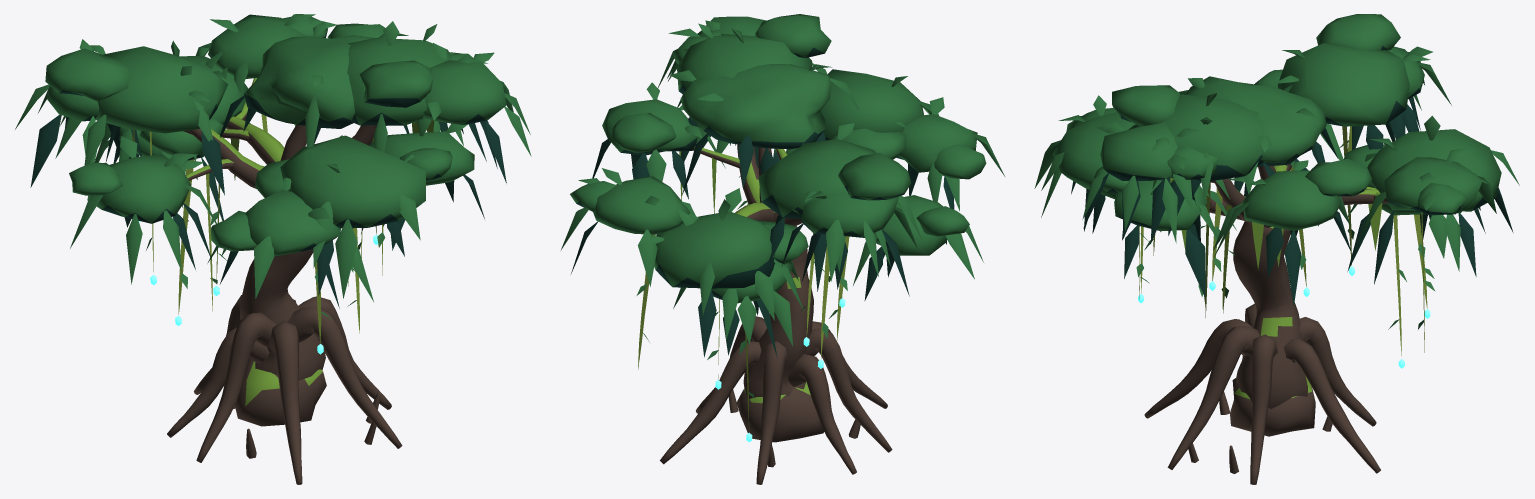
Rendered from tree_swamp_a.glb.
The picture shows the model from 3 angles, left to right: view 1: azimuth 30°, elevation 25°; view 2: azimuth 150°, elevation 25°; view 3: azimuth 270°, elevation 25°; orthographic projection. The views are drawn at different scales.
Visible parts, largest first — view 1: tree_swamp_a_mesh; view 2: tree_swamp_a_mesh; view 3: tree_swamp_a_mesh.
Boxes of the visible parts, <box> form: tree_swamp_a_mesh: <box>15,14,531,484</box>; tree_swamp_a_mesh: <box>561,14,1004,484</box>; tree_swamp_a_mesh: <box>1034,14,1519,484</box>.
Bounding box in the file's own units: 9.33 × 8.93 × 10.19.
